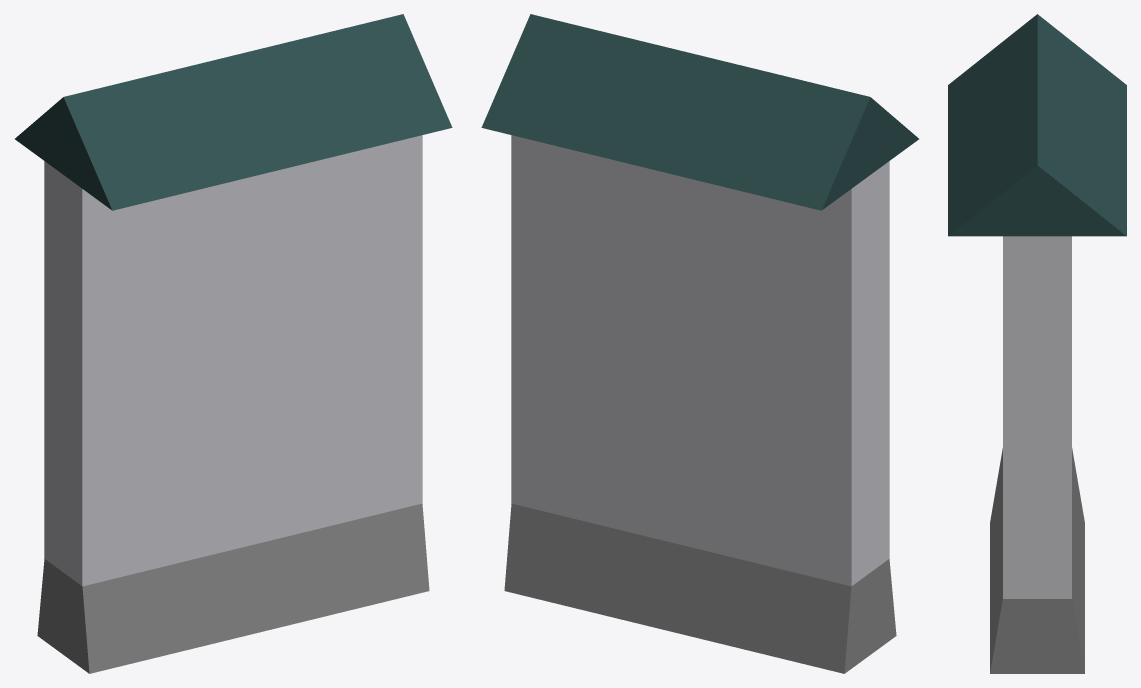
Rendered from Asian_Prop_Building_Fence_Wall_Simple_Small_01.FBX.
3 views of the same model, side by side, from view 1: azimuth 30°, elevation 25°; view 2: azimuth 150°, elevation 25°; view 3: azimuth 270°, elevation 25° (orthographic). The views are drawn at different scales.
Parts seen in each view (by area): view 1: Asian_Prop_Building_Fence_Wall_Simple_Small_01; view 2: Asian_Prop_Building_Fence_Wall_Simple_Small_01; view 3: Asian_Prop_Building_Fence_Wall_Simple_Small_01.
Part boxes in pixels (x1,y1,x2,y2): Asian_Prop_Building_Fence_Wall_Simple_Small_01: (15, 14, 452, 673); Asian_Prop_Building_Fence_Wall_Simple_Small_01: (481, 14, 918, 673); Asian_Prop_Building_Fence_Wall_Simple_Small_01: (948, 14, 1126, 673).
Size of the model in its own units: 2584 by 4051 by 1290.
